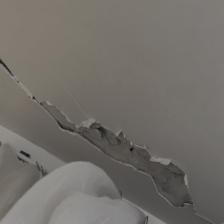Medium: (16, 71, 197, 148)
